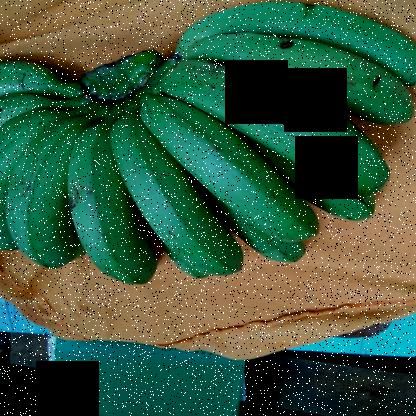freshunripe: (135, 103, 312, 247), (101, 110, 244, 286)
